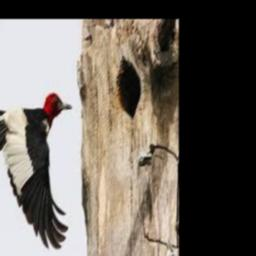Woodpecker: (0, 93, 71, 249)
